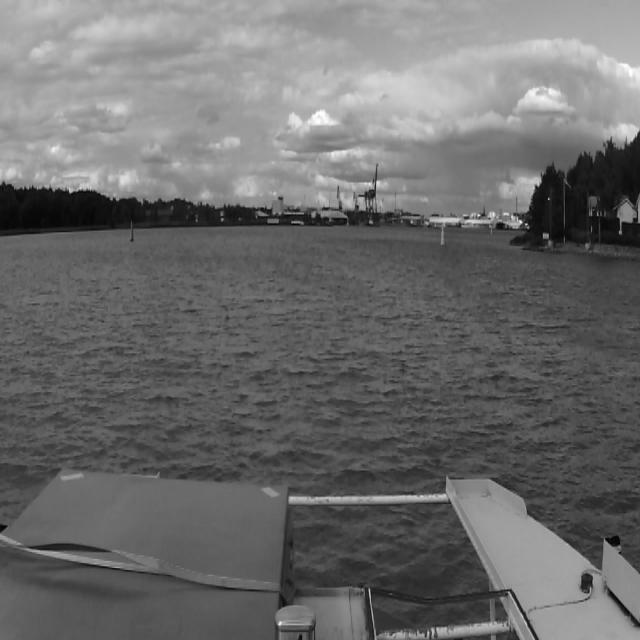buoy: (129, 221, 134, 240), (441, 223, 445, 244)
